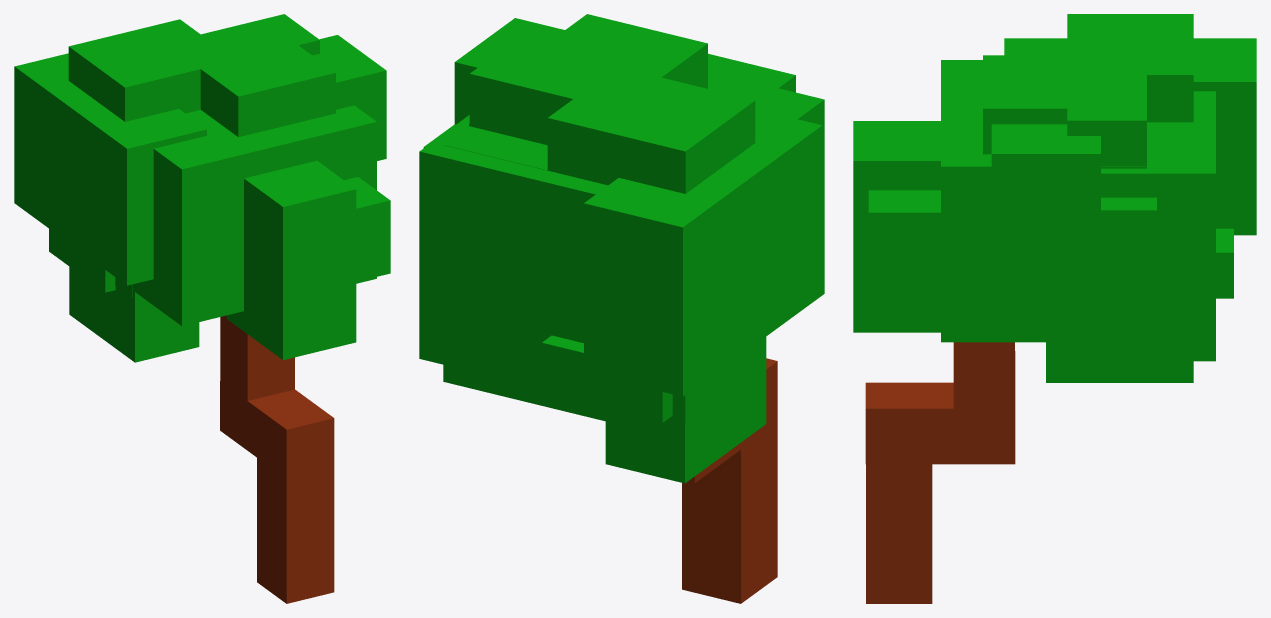
Rendered from Arvore3.fbx.
The picture shows the model from 3 angles, left to right: view 1: azimuth 30°, elevation 25°; view 2: azimuth 150°, elevation 25°; view 3: azimuth 270°, elevation 25°; orthographic projection. The views are drawn at different scales.
Visible parts, largest first — view 1: Box013, Box012; view 2: Box013, Box012; view 3: Box013, Box012.
Part boxes in pixels (left/top/right/bottom): Box013: left=14, top=14, right=390, bottom=362; Box012: left=220, top=315, right=334, bottom=603; Box013: left=419, top=14, right=824, bottom=483; Box012: left=682, top=358, right=777, bottom=603; Box013: left=853, top=14, right=1256, bottom=382; Box012: left=865, top=342, right=1015, bottom=603.
Size of the model in its own units: 129 by 227 by 158.
